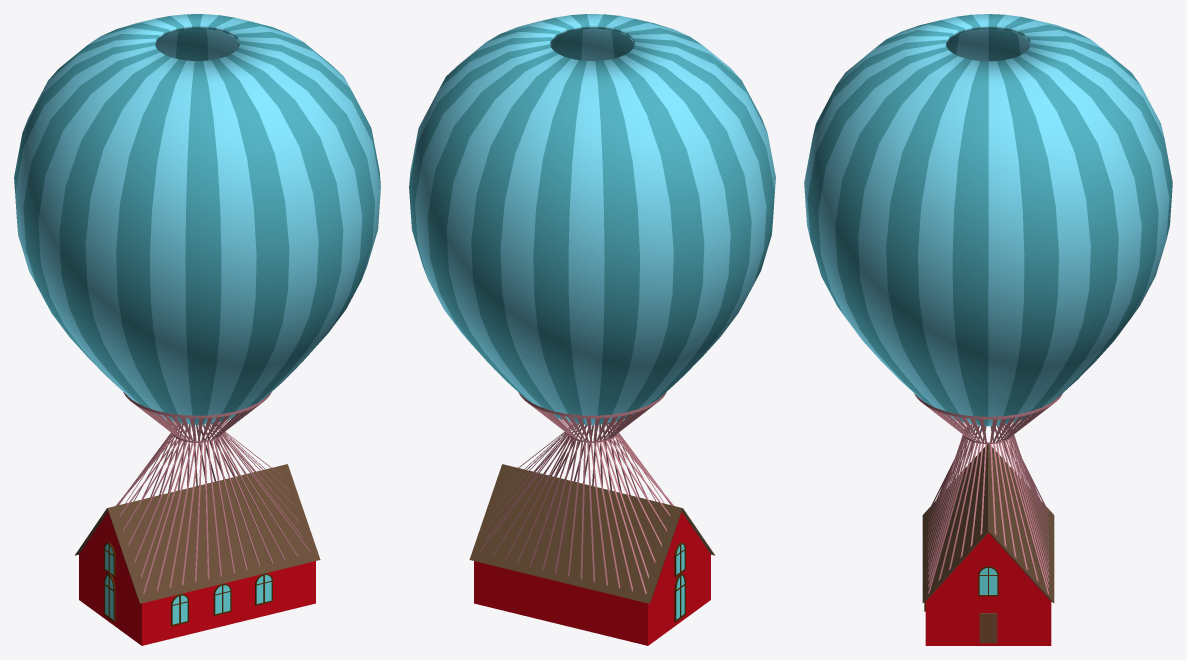
The model's file is FlyHouse.fbx.
3 renders of one model, left to right at view 1: azimuth 30°, elevation 25°; view 2: azimuth 150°, elevation 25°; view 3: azimuth 270°, elevation 25°, orthographic.
Visible parts, largest first — view 1: Ballon, House, Ropes, Window.002, Window.003; view 2: Ballon, House, Ropes; view 3: Ballon, House, Ropes, Window, Door.
Part boxes in pixels (x1,y1,x2,y2): Ballon: (14, 14, 380, 424); House: (75, 464, 320, 645); Ropes: (116, 392, 311, 594); Window.002: (213, 583, 231, 615); Window.003: (171, 594, 188, 626); Ballon: (409, 14, 775, 424); House: (469, 464, 714, 645); Ropes: (478, 392, 673, 594); Ballon: (804, 14, 1172, 426); House: (922, 444, 1054, 645); Ropes: (914, 393, 1062, 594); Window: (978, 566, 998, 596); Door: (979, 613, 997, 643).
Size of the model in its own units: 1464 by 2454 by 1464.
